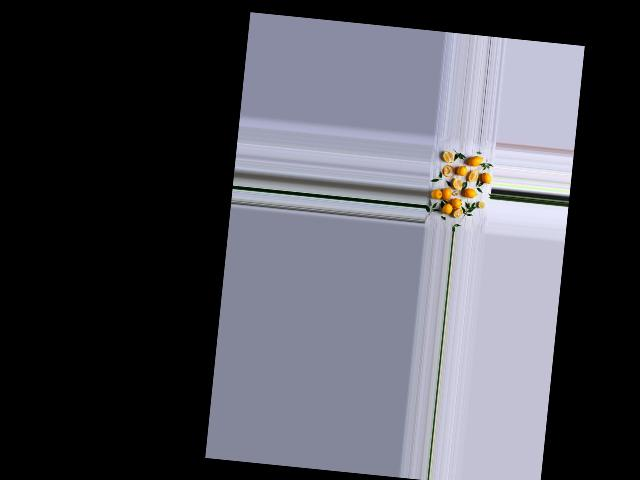lemon: (431, 185, 443, 201)
